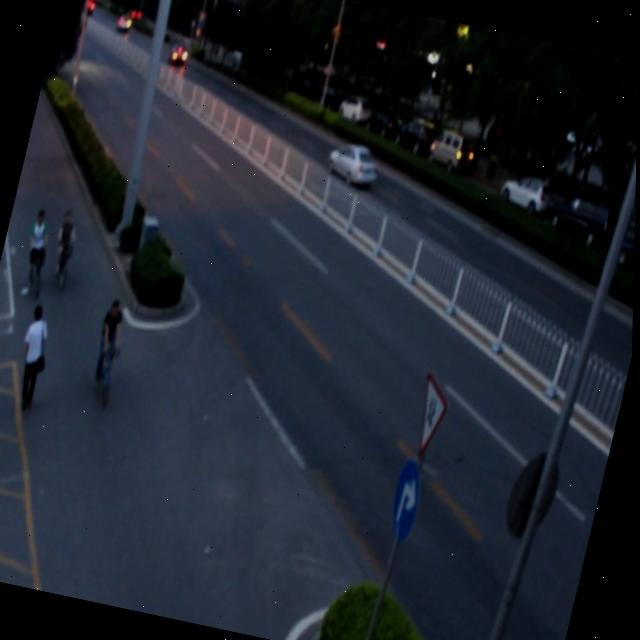car: (322, 136, 383, 190)
